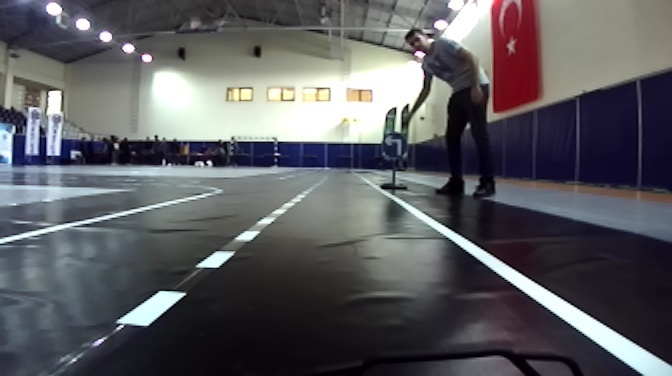sola_donus: (379, 132, 411, 163)
